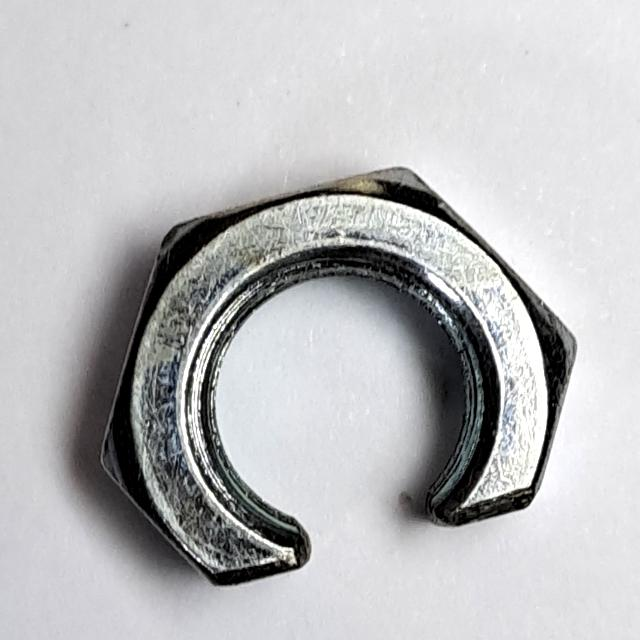Fracture: (83, 156, 589, 612)
